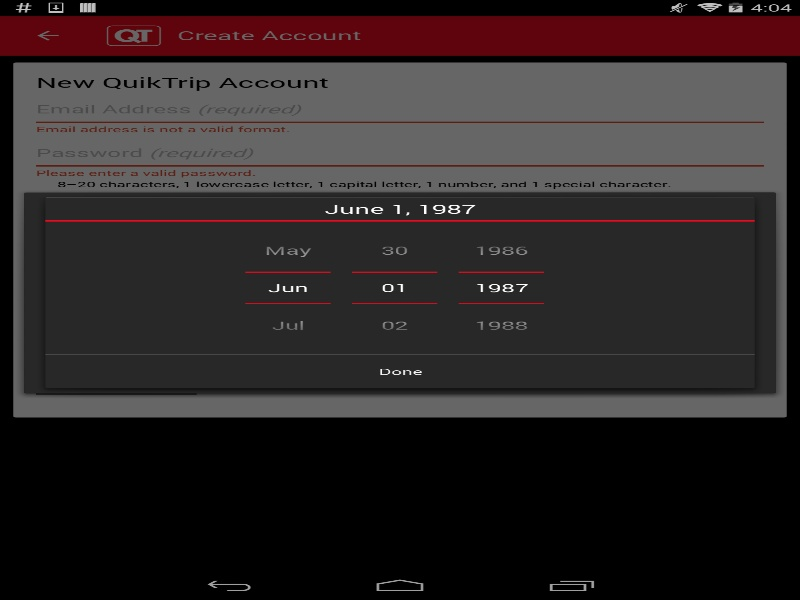Button: (45, 354, 754, 388), (458, 302, 544, 344), (245, 302, 330, 344), (352, 302, 437, 344), (458, 231, 544, 272), (245, 231, 330, 272), (352, 231, 437, 272)
Input: (458, 272, 544, 302), (245, 272, 330, 302), (352, 272, 437, 302)
